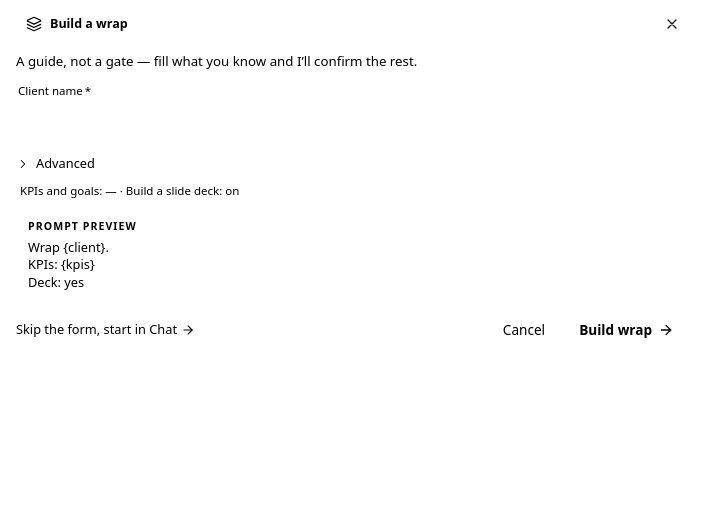
it: ProtocolPillForm — advanced fields (shared FormFields) › collapses advanced fields under an Advanced toggle that summarises their values
Expected: the text "KPIs and goals: — · Build a slide deck: on" is shown, [20, 183, 239, 198]
Click the button "Advanced". click: (55, 164)
box: [16, 154, 95, 173]
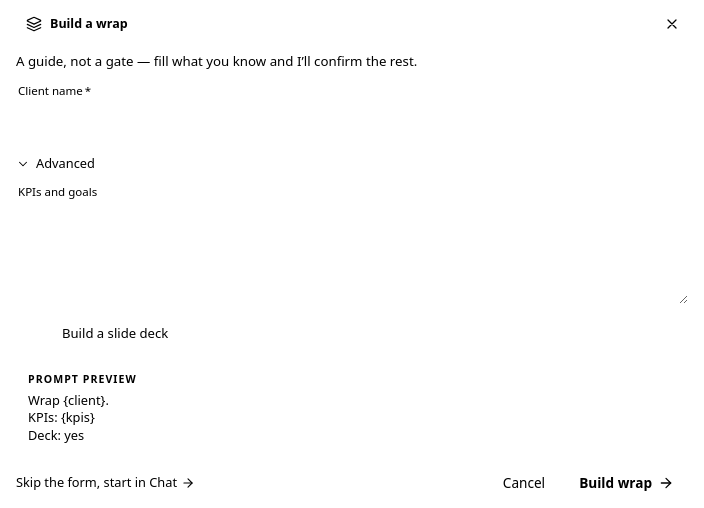
Now the button "Advanced" is expanded, box [16, 154, 95, 173]
